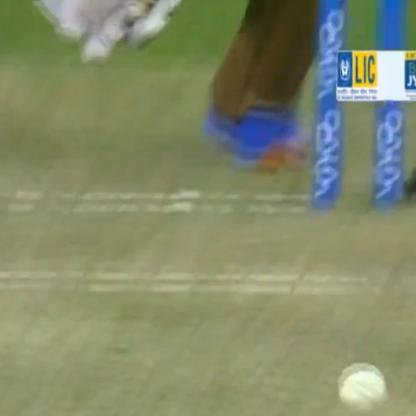ball: (330, 382, 390, 413), (332, 358, 388, 389)
